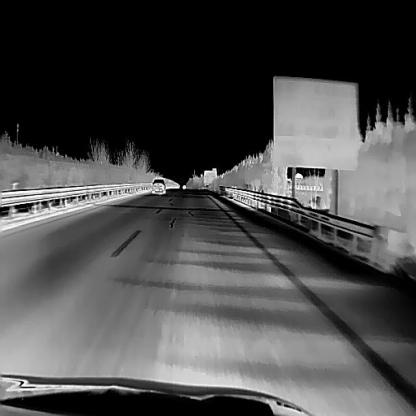car: (151, 178, 166, 194)
